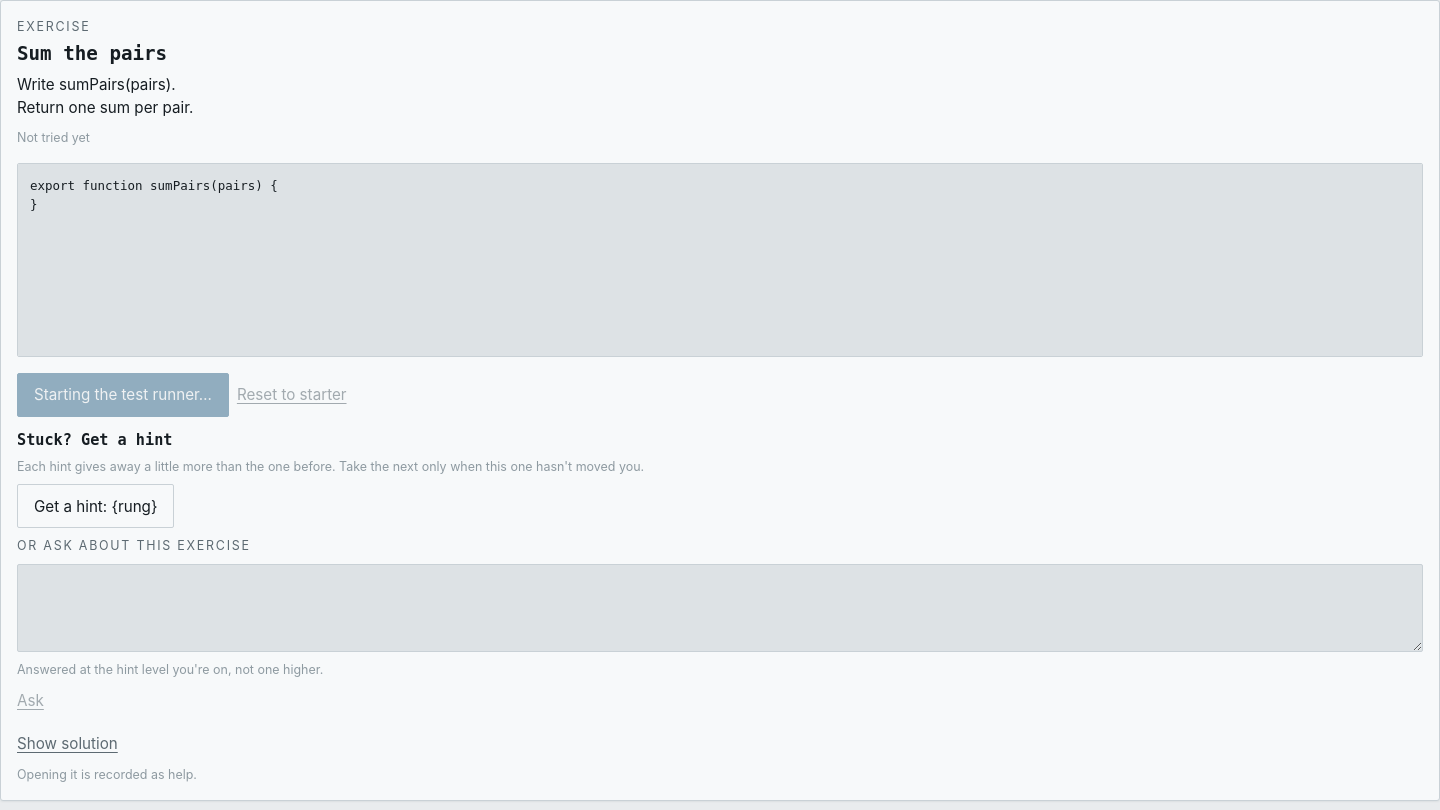
Scenario: what renders › keeps the solution hidden until asked for
The image size is (1440, 810).
Expected: the heading "Sum the pairs" is shown, [17,42,167,65]
Expected: the text "Reference solution" is not shown
Click the button "Show solution" at (67, 744), box [17,730,118,757]
(page scrolled)
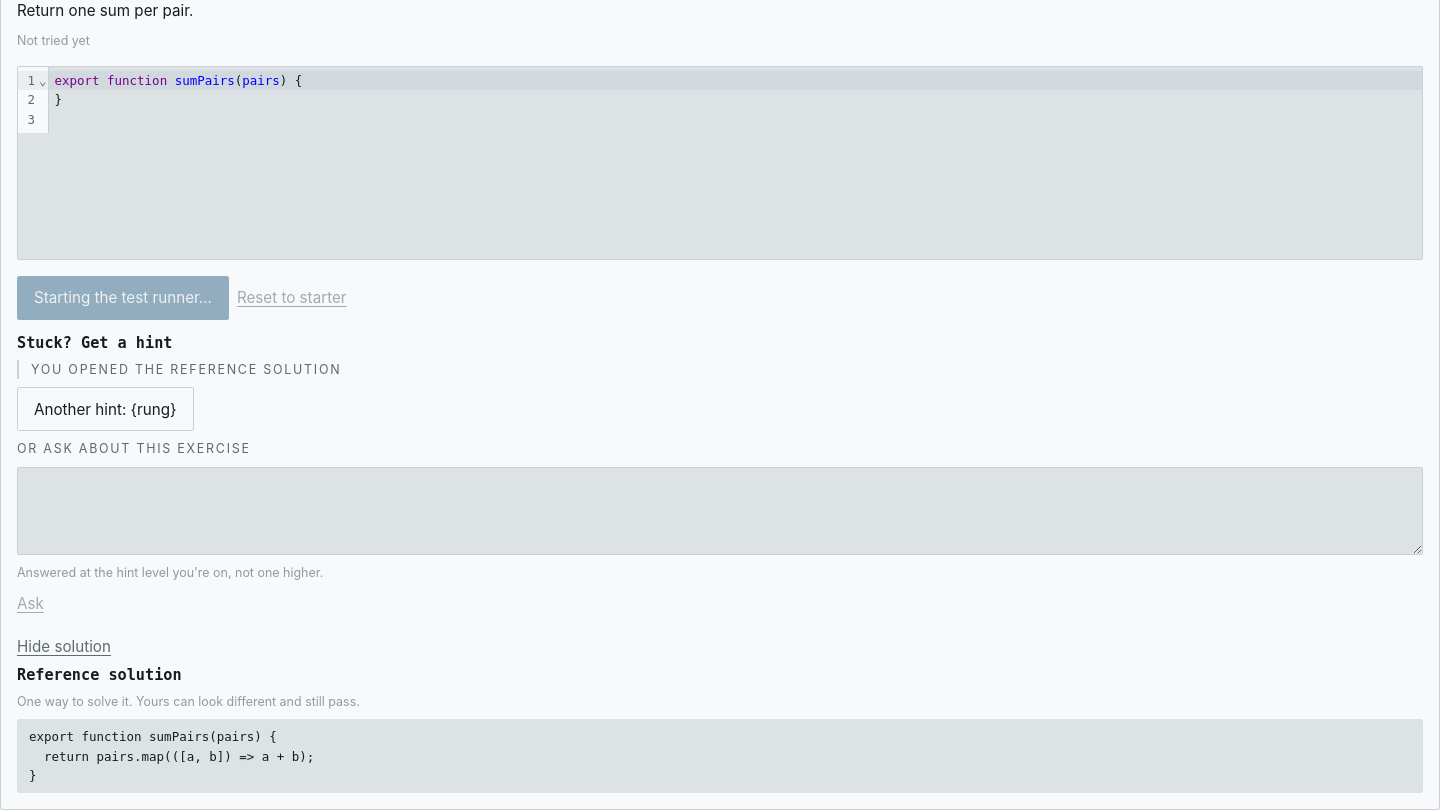
Expected: the heading "Reference solution" is shown, [17,666,182,684]
Expected: the text "pairs.map" is shown, [29,729,314,783]
